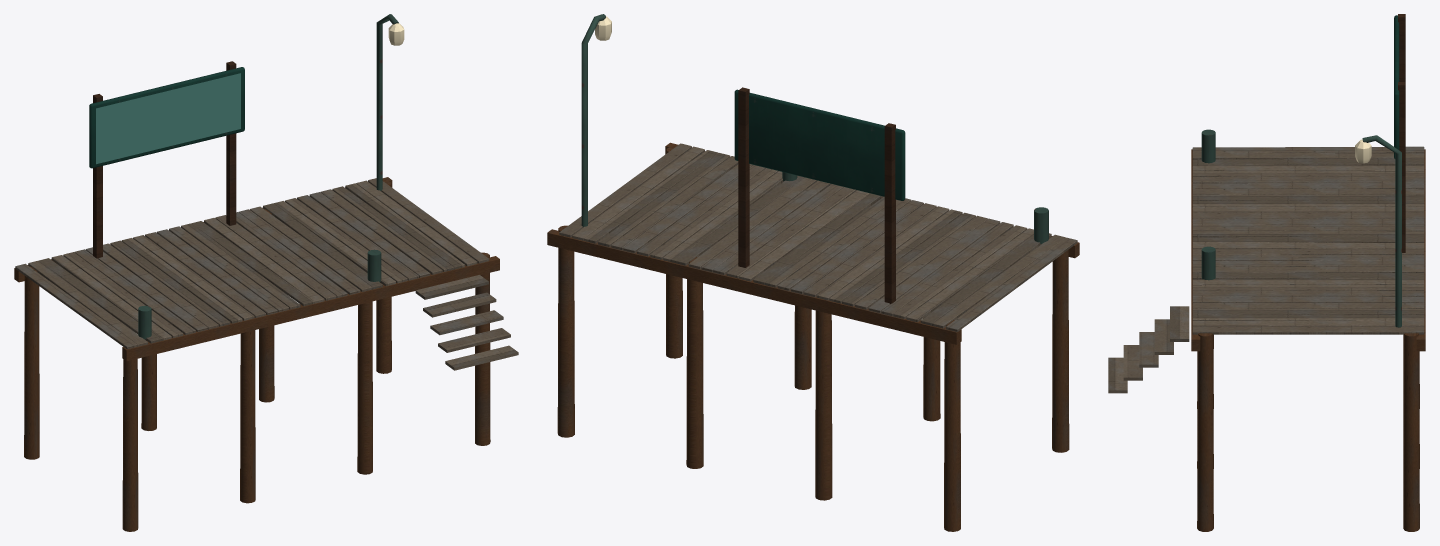
Rendered from dermaga_kayu.glb.
3 views of the same model, side by side, from view 1: azimuth 30°, elevation 25°; view 2: azimuth 150°, elevation 25°; view 3: azimuth 270°, elevation 25° (orthographic). The views are drawn at different scales.
Visible parts, largest first — view 1: dermaga_kayu_kayu_lapuk, dermaga_kayu_kayu_balok, papan_muka, dermaga_kayu_papan_email, dermaga_kayu_mesin, dermaga_kayu_kayu_tua; view 2: dermaga_kayu_kayu_lapuk, dermaga_kayu_kayu_balok, dermaga_kayu_papan_email, dermaga_kayu_kayu_tua, dermaga_kayu_mesin; view 3: dermaga_kayu_kayu_lapuk, dermaga_kayu_kayu_balok, dermaga_kayu_mesin, dermaga_kayu_kayu_tua, dermaga_kayu_papan_email.
Boxes of the visible parts, x1,y1,x2,y2 form: dermaga_kayu_kayu_lapuk: (15,178,518,370); dermaga_kayu_kayu_balok: (14,177,499,531); papan_muka: (96,73,240,164); dermaga_kayu_papan_email: (89,67,244,168); dermaga_kayu_mesin: (138,14,398,339); dermaga_kayu_kayu_tua: (93,61,236,258); dermaga_kayu_kayu_lapuk: (559,143,1077,331); dermaga_kayu_kayu_balok: (547,142,1079,531); dermaga_kayu_papan_email: (734,89,905,200); dermaga_kayu_kayu_tua: (738,87,895,304); dermaga_kayu_mesin: (581,14,1048,243); dermaga_kayu_kayu_lapuk: (1108,146,1424,393); dermaga_kayu_kayu_balok: (1191,149,1425,531); dermaga_kayu_mesin: (1201,129,1401,327); dermaga_kayu_kayu_tua: (1398,14,1405,252); dermaga_kayu_papan_email: (1394,15,1399,158).
Size of the model in its own units: 7 by 6.65 by 4.93.
7 materials, 5 textured.
